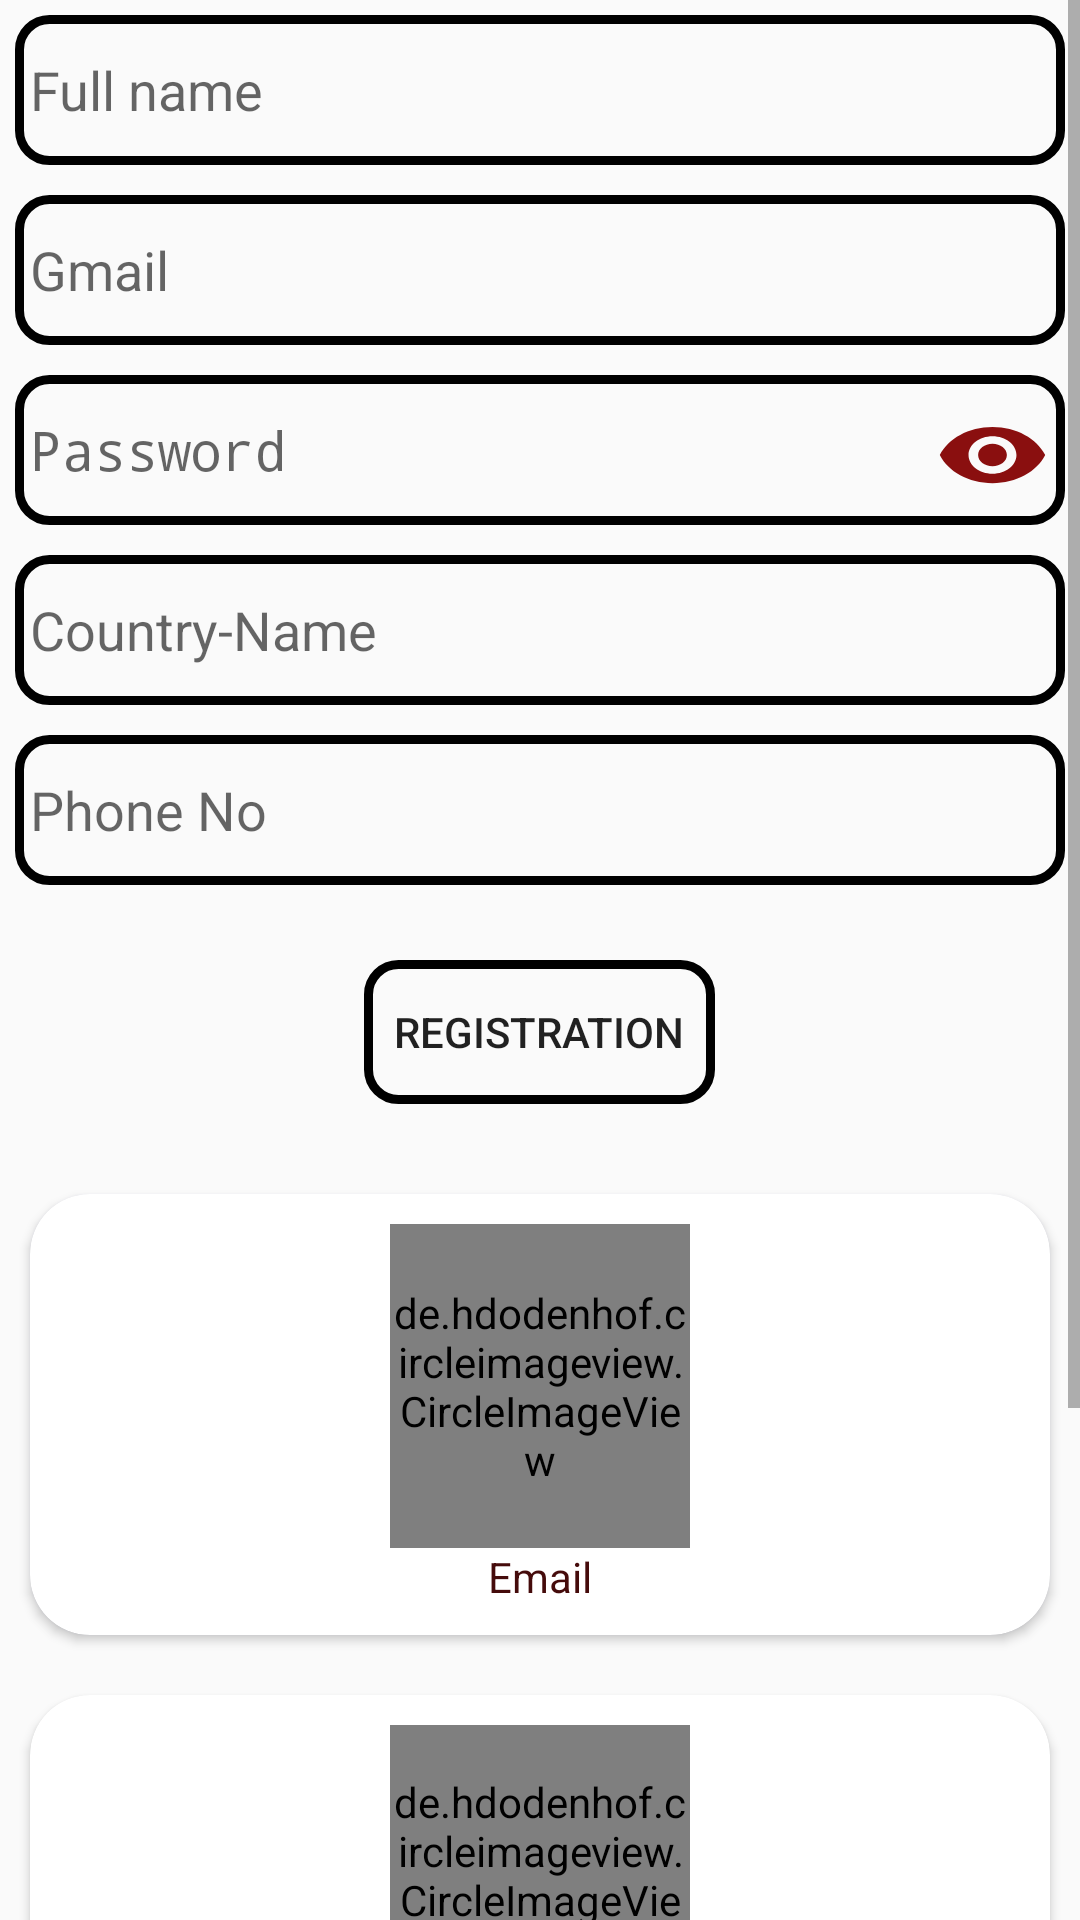

Icons on this 1080*1920 Android screen, each with the point to tap as (x=x, y=y):
remove eye: (x=992, y=455)
